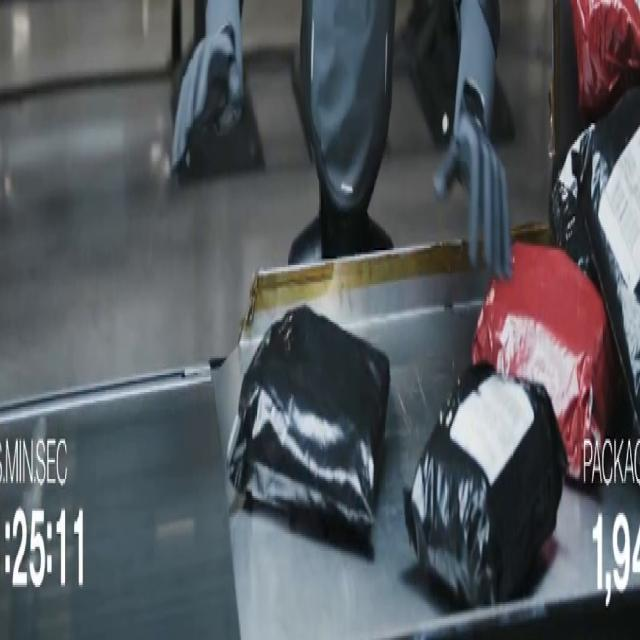package: (405, 365, 566, 606), (228, 306, 390, 536), (473, 244, 616, 481), (566, 90, 639, 428), (571, 0, 639, 120), (550, 128, 597, 283)
